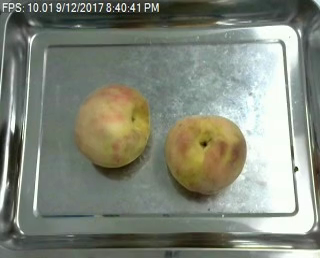Peach: (74, 84, 151, 168), (164, 115, 246, 192)
